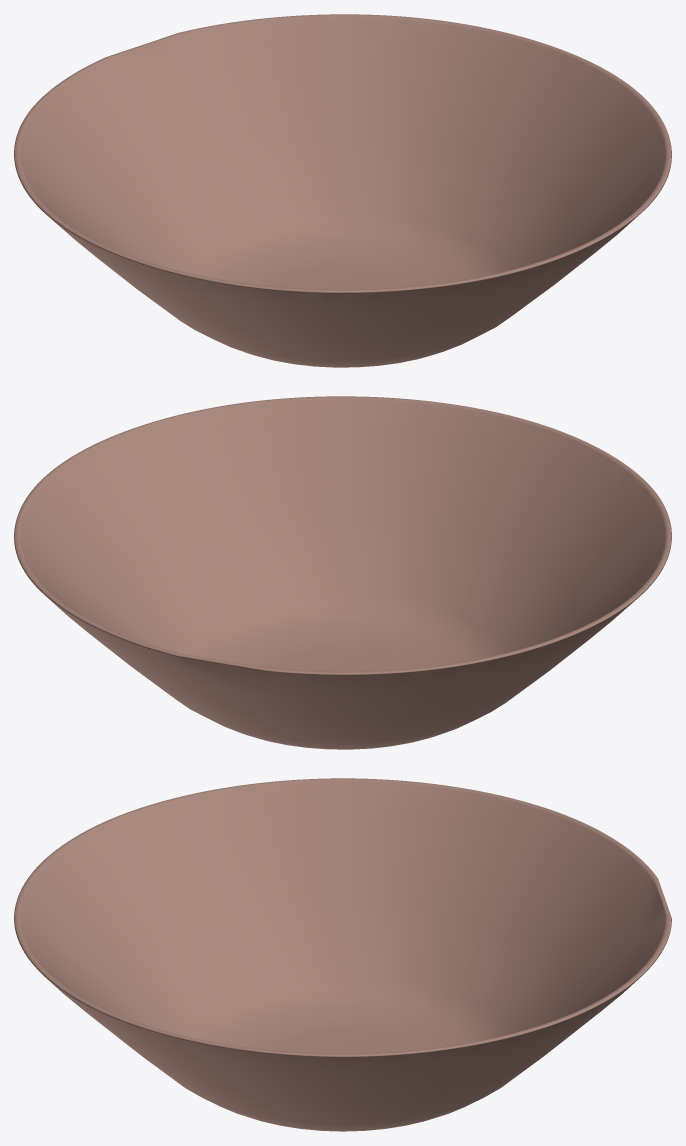
Rendered from Kom.fbx.
The picture shows the model from 3 angles, top to bottom: view 1: azimuth 30°, elevation 25°; view 2: azimuth 150°, elevation 25°; view 3: azimuth 270°, elevation 25°; orthographic projection.
Parts seen in each view (by area): view 1: nurbsToPoly3; view 2: nurbsToPoly3; view 3: nurbsToPoly3.
Boxes of the visible parts, x1=… form: nurbsToPoly3: x1=14, y1=14, x2=671, y2=367; nurbsToPoly3: x1=14, y1=396, x2=671, y2=749; nurbsToPoly3: x1=14, y1=778, x2=671, y2=1131.
Bounding box in the file's own units: 5.22 × 1.39 × 5.22.
